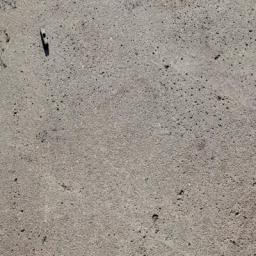FOD: (38, 25, 56, 59)
